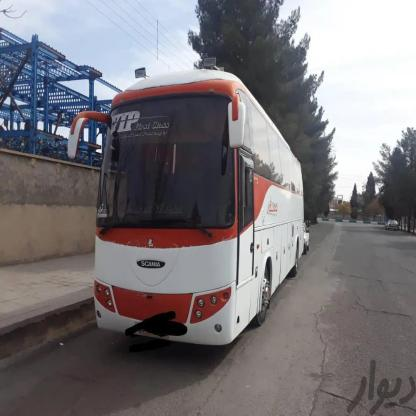Bus: (94, 66, 292, 348)
Car: (379, 213, 401, 245), (299, 222, 312, 252)
